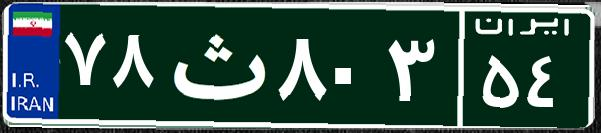0: (330, 28, 385, 110)
3: (385, 28, 445, 110)
4: (525, 38, 570, 115)
5: (475, 38, 525, 113)
7: (57, 26, 110, 107)
8: (273, 28, 330, 110), (110, 28, 158, 105)
ث: (158, 15, 273, 115)
